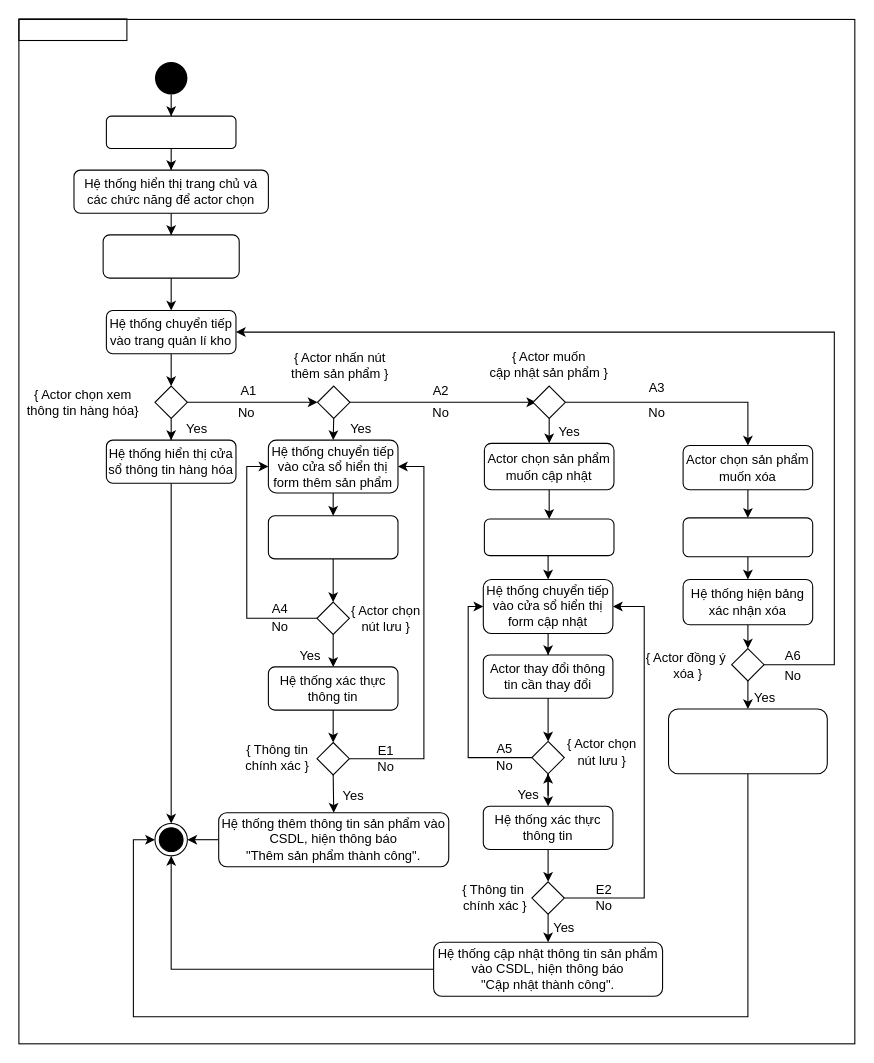
This 874x1063 diagram has some shape labels left out. The shapes that lost their labels are listed below. From the top down, each one's box as (x1, y1, x2, y2) in pixels, then its label:
(18, 18, 127, 40): Activity Diagram
(105, 115, 236, 148): Actor đăng nhập vào hệ thống
(102, 234, 239, 278): Actor chọn chức năng quản lí kho
(267, 515, 398, 559): Actor nhập thông tin sản phẩm cần thêm
(483, 518, 614, 556): Actor chọn nút cập nhật
(682, 517, 813, 557): Actor nhấn nút xóa
(667, 708, 827, 774): Hệ thống xóa thông tin khỏi CSDL, hiện thông báo "Xóa thành công".
